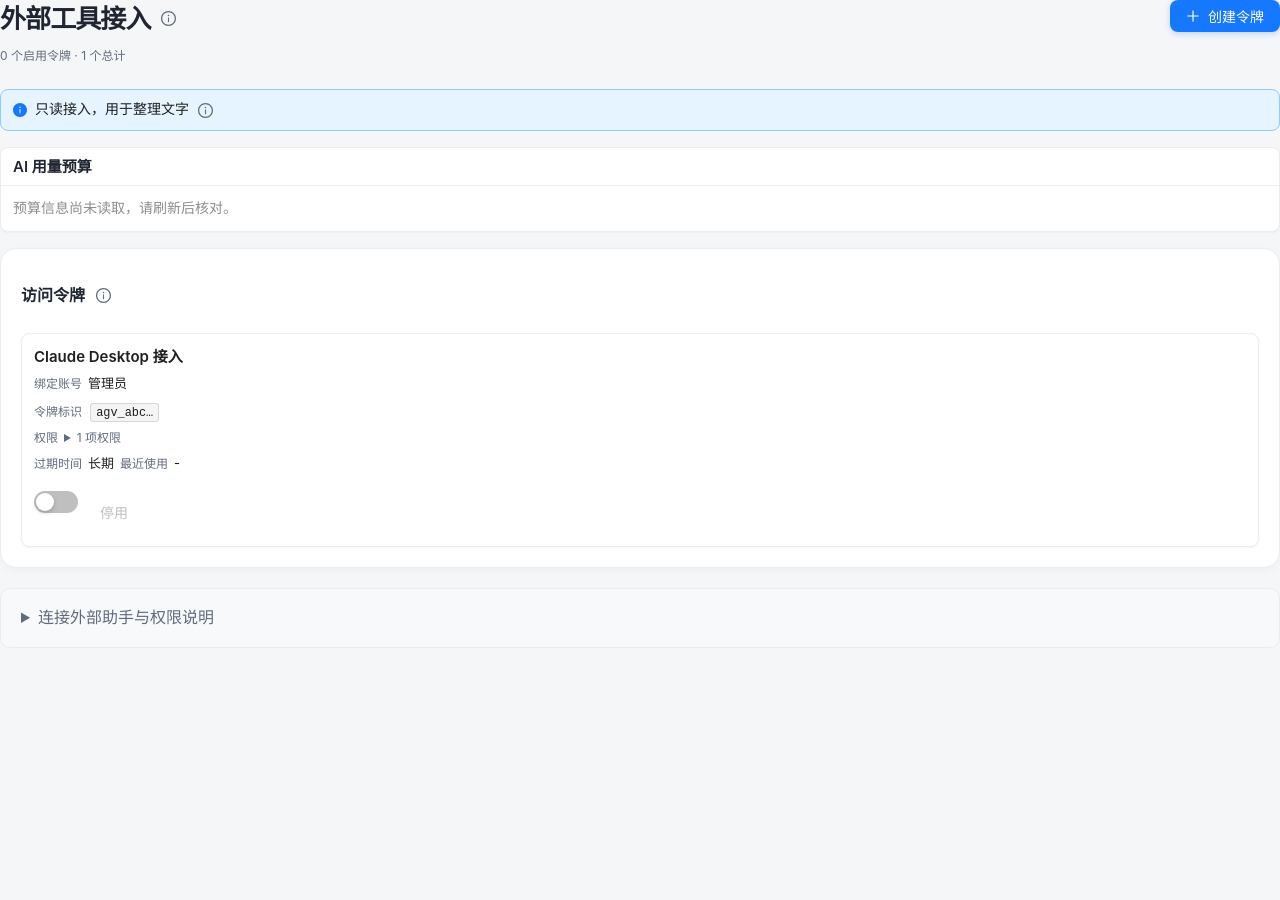
Test: explains current read-only tools without promising drafts or business writes
Expected: the text "Claude Desktop 接入" is shown, [34, 347, 183, 366]
Click the heading "连接外部助手与权限说明".
click(126, 617)  # box [38, 607, 214, 627]
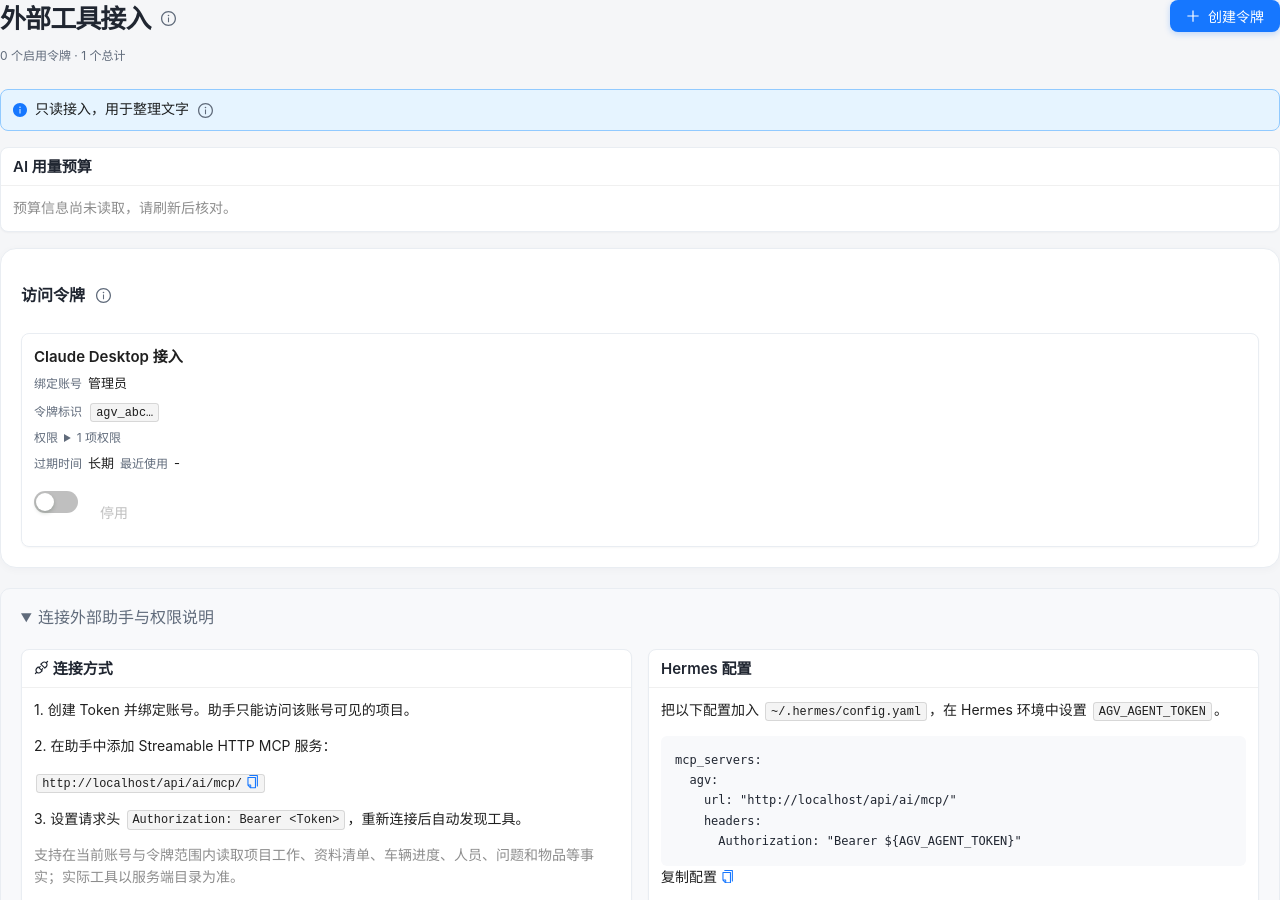
Result: the text "支持在当前账号与令牌范围内读取项目工作、资料清单、车辆进度、人员、问题和物品等事实；实际工具以服务端目录为准。" is shown at [34, 846, 594, 885]
